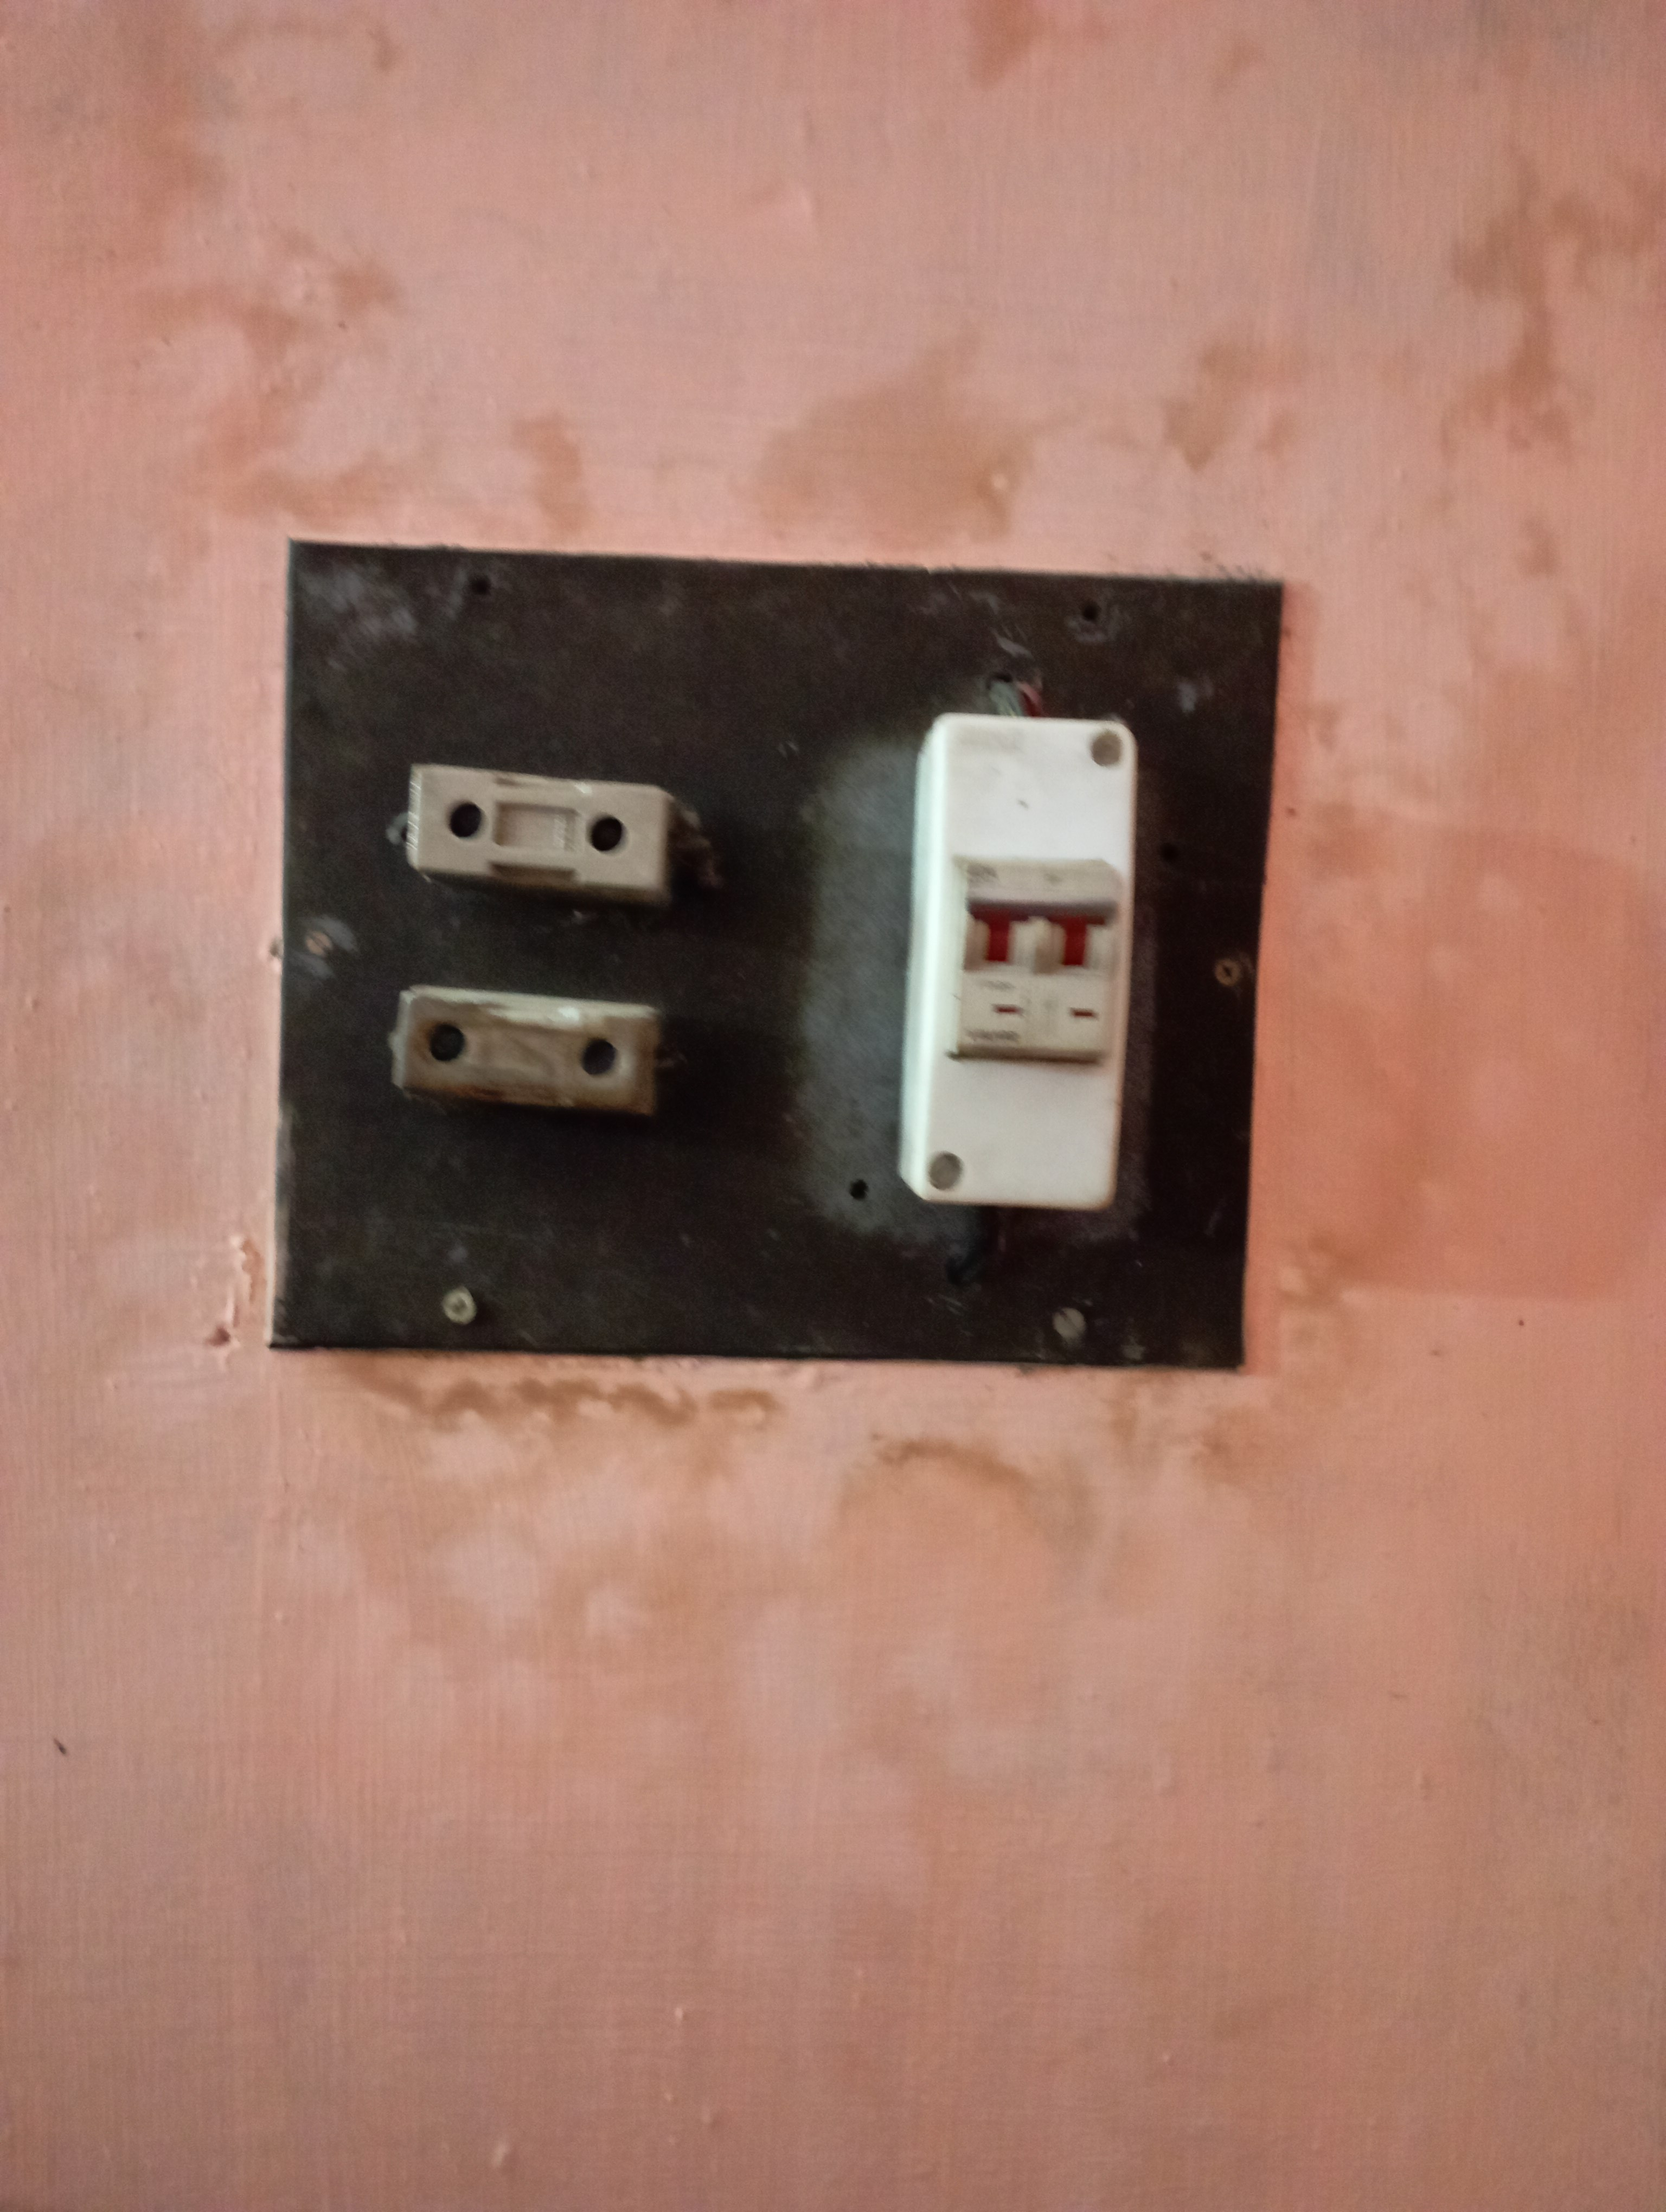ciruit_breaker: (891, 696, 1155, 1203)
fuse: (366, 960, 705, 1114), (383, 754, 709, 904)
